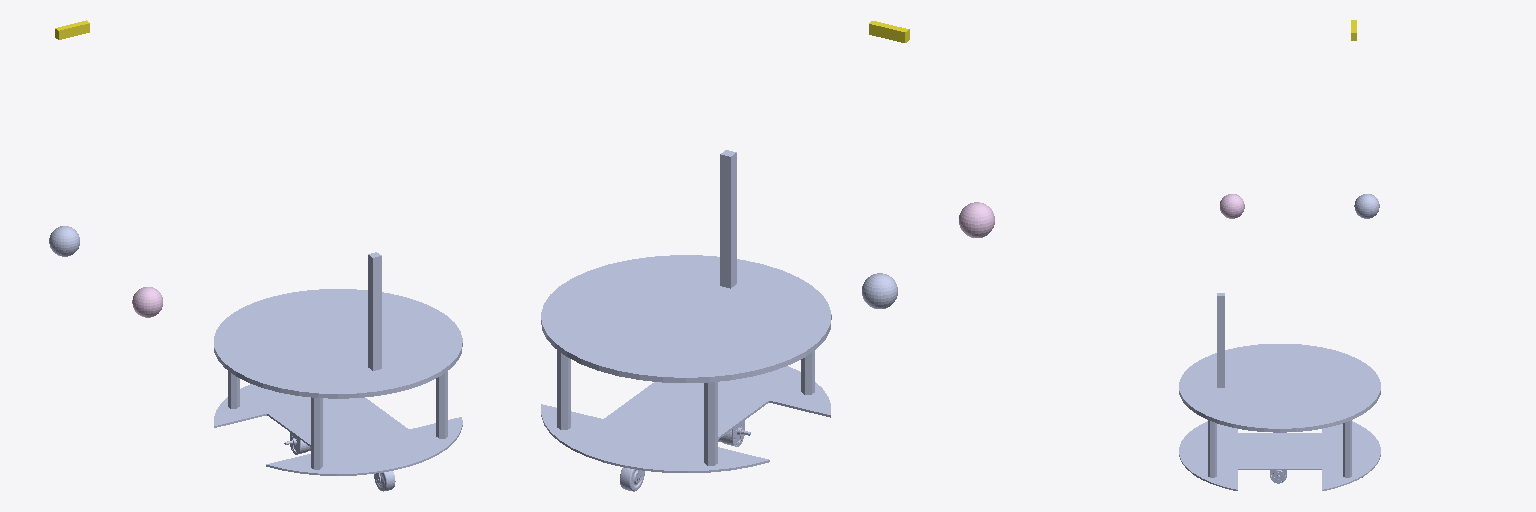
The robot description file, URDF, robot "mapping_robot_1":
<?xml version="1.0" encoding="utf-8"?>
<!-- This URDF was automatically created by SolidWorks to URDF Exporter! Originally created by [author] ([email redacted]) 
     Commit Version: 1.6.0-1-g15f4949  Build Version: 1.6.7594.29634
     For more information, please see http://wiki.ros.org/sw_urdf_exporter -->
<robot
  name="mapping_robot_1">
  <link
    name="base_link">
    <inertial>
      <origin xyz="0 0 0" rpy="0 0 0" />
      <mass value="0.36019" />
      <inertia
        ixx="0.0010507"
        ixy="7.6565E-12"
        ixz="4.6942E-11"
        iyy="0.0018673"
        iyz="0.3788E-10"
        izz="0.00107787" />
    </inertial>
    <visual>
      <origin xyz="0 0 0" rpy="0 0 0" />
      <geometry>
        <mesh filename="package://mapping_robot_1/meshes/base_link.STL" />
      </geometry>
      <material
        name="">
        <color rgba="0.79216 0.81961 0.93333 1" />
      </material>
    </visual>
    <collision>
      <origin xyz="0 0 0" rpy="0 0 0" />
      <geometry>
        <mesh filename="package://mapping_robot_1/meshes/base_link.STL" />
      </geometry>
    </collision>
  </link>

  <gazebo reference="base_link">
    <material>Gazebo/DarkGrey</material>
  </gazebo>

  <joint name="caster_joint" type="fixed">
    <origin xyz="0 0.08 -0.02" rpy="0 0 0"/>
    <parent link="base_link"/>
    <child link="caster_front"/>
  </joint>

  <gazebo reference="caster_front">
            <slip1>100000.0</slip1>
            <slip2>100000.0</slip2>
  </gazebo>

 <link name="caster_front">
    <collision name="caster_front_collision">
      <origin rpy="0  0  0" xyz="0 0 0"/>
      <geometry>
        <sphere radius="0.015"/>
      </geometry>
      <surface>
        <friction>
          <ode>
            <slip1>100000.0</slip1>
            <slip2>100000.0</slip2>
          </ode>
        </friction>
      </surface>
    </collision>
    
    <visual name="castor_front_visual">
      <origin rpy="0  0  0" xyz="0 0 0"/>
      <geometry>
        <sphere radius="0.015"/>
      </geometry>
      <material
        name="">
        <color rgba="0.79216 0.81961 0.93333 1" />
      </material>
    </visual>
  </link>

 <gazebo reference="caster_front">
    <material>Gazebo/BlueGlow</material>
  </gazebo>

  <joint name="caster_joint1" type="fixed">
    <origin xyz="0 -0.08 -0.02" rpy="0 0 0"/>
    <parent link="base_link"/>
    <child link="caster_front1"/>
  </joint>

    <gazebo reference="caster_front1">
            <slip1>100000.0</slip1>
            <slip2>100000.0</slip2>
  </gazebo>
 <link name="caster_front1">
    <collision name="caster_front_collision1">
      <origin rpy="0  0  0" xyz="0 0 0"/>
      <geometry>
        <sphere radius="0.015"/>
      </geometry>
      <surface>
        <friction>
          <ode>
            <slip1>100000.0</slip1>
            <slip2>100000.0</slip2>
          </ode>
        </friction>
      </surface>
    </collision>
    
    <visual name="castor_front_visual1">
      <origin rpy="0  0  0" xyz="0 0 0"/>
      <geometry>
        <sphere radius="0.015"/>
      </geometry>
      <material
        name="1">
        <color rgba="0.9216 0.81961 0.93333 1" />
      </material>
    </visual> 
    </link>

  <gazebo reference="caster_front1">
    <material>Gazebo/BlueGlow</material>
  </gazebo>

  <joint name="stereo_joint" type="fixed">
    <origin xyz="0.0 0.065 0.21" rpy="0 0 1.57"/>
    <parent link="base_link"/>
    <child link="stereo_link"/>
  </joint>

  <link name="stereo_link">
    <collision>
      <origin xyz="0.0 0.0 0.0" rpy="0 0 0"/>
      <geometry>
        <box size="0.007 0.035 0.01"/>
      </geometry>
    </collision>
    <visual name="stereo_front_visual">
      <origin rpy="0  0  0" xyz="0  0  0"/>
      <geometry>
        <box size="0.007 0.035 0.01"/>
      </geometry>
    </visual> 
  </link>
  
  <link
    name="Left_link">
    <inertial>
      <origin xyz="0.07 0.0 -0.009" rpy="0 0 0" />
      <mass value="0.0047382" />
      <inertia
        ixx="2.7571E-06"
        ixy="-6.1198E-12"
        ixz="1.7319E-14"
        iyy="1.3915E-06"
        iyz="-3.1568E-13"
        izz="1.3915E-06" />
    </inertial>
    <visual>
      <origin xyz="-0.135 0 0" rpy="0 0 0" />
      <geometry>
        <mesh filename="package://mapping_robot_1/meshes/Left_link.STL" />
      </geometry>
      <material
        name="">
        <color rgba="0.79216 0.81961 0.93333 1" />
      </material>
    </visual>
    <collision>
      <origin xyz="-0.135 0 0" rpy="0 0 0" />
      <geometry>
        <mesh filename="package://mapping_robot_1/meshes/Left_link.STL" />
      </geometry>
      <surface>
      <friction>
          <ode>
            <mu>1000</mu>
            <mu2>1000</mu2>
          </ode>
        </friction>
      </surface>
    </collision>
  </link>
  <joint name="left_wheel" type="continuous">
    <origin xyz="0.07 0.0 -0.009" rpy="0 0 0" />
    <parent link="base_link" />
    <child link="Left_link" />
    <axis xyz="-1 0 0" />
    <limit effort="20" velocity="10" /> 
    <joint_properties damping="10.0" friction="10000.0" />
  </joint>

  <gazebo reference="Left_link">
            <mu>1000</mu>
            <mu2>1000</mu2>
  </gazebo>
  <transmission name="left_wheel_trans">
    <type>transmission_interface/SimpleTransmission</type>
    <actuator name="left_wheel_motor">
      <hardwareInterface>VelocityJointInterface</hardwareInterface>
      <mechanicalReduction>4</mechanicalReduction>
    </actuator>
    <joint name="left_wheel">
      <hardwareInterface>VelocityJointInterface</hardwareInterface>
    </joint>
  </transmission>

  <gazebo reference="Left_link">
    <material>Gazebo/BlueGlow</material>
  </gazebo>

  <link name="Right_Link">
    <inertial>
      <origin xyz="-0.07 0.0 -0.009" rpy="0 0 0" />
      <mass value="0.0047382" />
      <inertia
        ixx="2.7571E-06"
        ixy="-6.1198E-12"
        ixz="1.7319E-14"
        iyy="1.3915E-06"
        iyz="-3.1568E-13"
        izz="1.3915E-06" />
    </inertial>
    <visual>
      <origin xyz="0.135 0 0" rpy="0 0 0" />
      <geometry>
        <mesh filename="package://mapping_robot_1/meshes/Right_Link.STL" />
      </geometry>
      <material
        name="">
        <color rgba="0.79216 0.81961 0.93333 1" />
      </material>
    </visual>
    <collision>
      <origin xyz="0.135 0.0 0.0" rpy="0 0 0" />
      <geometry>
        <mesh filename="package://mapping_robot_1/meshes/Right_Link.STL" />
      </geometry>
      <surface>
      <friction>
          <ode>
            <mu>100</mu>
            <mu2>100</mu2>
          </ode>
        </friction>
      </surface>
    </collision>
  </link>
  <joint name="Right_wheel" type="continuous">
    <origin xyz="-0.07 0.0 -0.009" rpy="0 0 0" />
    <parent link="base_link" />
    <child link="Right_Link" />
    <axis xyz="-1 0 0" />
    <limit effort="20" velocity="10" /> 
    <joint_properties damping="10.0" friction="10000.0" />
  </joint>

  
  <gazebo reference="Right_Link">
            <mu>1000</mu>
            <mu2>1000</mu2>
  </gazebo>
  <transmission name="right_wheel_trans">
     <type>transmission_interface/SimpleTransmission</type>
     <actuator name="right_wheel_motor">
       <hardwareInterface>VelocityJointInterface</hardwareInterface>
       <mechanicalReduction>4</mechanicalReduction>
     </actuator>
     <joint name="Right_wheel">
       <hardwareInterface>VelocityJointInterface</hardwareInterface>
     </joint>
  </transmission>

  <gazebo reference="Right_Link">
    <material>Gazebo/BlueGlow</material>
  </gazebo>

  <gazebo>
    <plugin filename="libgazebo_ros_diff_drive.so" name="differential_drive_controller">
      <alwaysOn>true</alwaysOn>
      <updateRate>20</updateRate>
      <leftJoint>left_wheel</leftJoint>
      <rightJoint>Right_wheel</rightJoint>
      <wheelSeparation>0.2</wheelSeparation>
      <wheelDiameter>0.1</wheelDiameter>
      <torque>10</torque>
      <commandTopic>cmd_vel</commandTopic>
      <odometryTopic>odom</odometryTopic>
      <odometryFrame>odom</odometryFrame>
      <robotBaseFrame>base_link</robotBaseFrame>
    </plugin>
  </gazebo>
<!-- First camera joint -->
  <joint name="camera_joint" type="fixed">
    <origin xyz="0.0165 0.065 0.21" rpy="0 0 1.57"/>
    <parent link="base_link"/>
    <child link="camera_link"/>
  </joint>

  <link name="camera_link">
    <collision>
      <origin xyz="0.001325 0.002915 0.003445" rpy="0 0 0"/>
      <geometry>
        <box size="0.003975 0.00795 0.007155"/>
      </geometry>
    </collision>
  </link>

  <joint name="camera_rgb_joint" type="fixed">
    <origin xyz="0.000795 0.002915 0.002385" rpy="0 0 0"/>
    <parent link="camera_link"/>
    <child link="camera_rgb_frame"/>
  </joint>
  <link name="camera_rgb_frame"/>

  <joint name="camera_rgb_optical_joint" type="fixed">
    <origin xyz="0 0 0" rpy="-1.57 0 -1.57"/>
    <parent link="camera_rgb_frame"/>
    <child link="camera_rgb_optical_frame"/>
  </joint>
  <link name="camera_rgb_optical_frame"/>

    <gazebo reference="camera_rgb_frame">
    <sensor type="camera" name="Pi Camera">
      <always_on>true</always_on>
      <visualize>true</visualize>
      <camera>
          <horizontal_fov>1.085595</horizontal_fov>
          <image>
              <width>640</width>
              <height>480</height>
              <format>R8G8B8</format>
          </image>
          <clip>
              <near>0.03</near>
              <far>100</far>
          </clip>
      </camera>
      <plugin name="camera_controller" filename="libgazebo_ros_camera.so">
        <alwaysOn>true</alwaysOn>
        <updateRate>30.0</updateRate>
        <cameraName>camera</cameraName>
        <frameName>camera_rgb_optical_frame</frameName>
        <imageTopicName>rgb/image_raw</imageTopicName>
        <cameraInfoTopicName>rgb/camera_info</cameraInfoTopicName>
        <hackBaseline>0.07</hackBaseline>
        <distortionK1>0.0</distortionK1>
        <distortionK2>0.0</distortionK2>
        <distortionK3>0.0</distortionK3>
        <distortionT1>0.0</distortionT1>
        <distortionT2>0.0</distortionT2>
      </plugin>
    </sensor>
  </gazebo>
<!-- The second Camera joint -->
  <joint name="camera_joint1" type="fixed">
    <origin xyz="-0.0135 0.065 0.21" rpy="0 0 1.57"/>
    <parent link="base_link"/>
    <child link="camera_link1"/>
  </joint>

  <link name="camera_link1">
    <collision>
      <origin xyz="0.001325 0.002915 0.003445" rpy="0 0 0"/>
      <geometry>
        <box size="0.003975 0.00795 0.007155"/>
      </geometry>
    </collision>
  </link>

  <joint name="camera_rgb_joint1" type="fixed">
    <origin xyz="0.000795 0.002915 0.002385" rpy="0 0 0"/>
    <parent link="camera_link1"/>
    <child link="camera_rgb_frame1"/>
  </joint>
  <link name="camera_rgb_frame1"/>

  <joint name="camera_rgb_optical_joint1" type="fixed">
    <origin xyz="0 0 0" rpy="-1.57 0 -1.57"/>
    <parent link="camera_rgb_frame1"/>
    <child link="camera_rgb_optical_frame1"/>
  </joint>
  <link name="camera_rgb_optical_frame1"/>

    <gazebo reference="camera_rgb_frame1">
    <sensor type="camera" name="Pi Camera">
      <always_on>true</always_on>
      <visualize>true</visualize>
      <camera>
          <horizontal_fov>1.085595</horizontal_fov>
          <image>
              <width>640</width>
              <height>480</height>
              <format>R8G8B8</format>
          </image>
          <clip>
              <near>0.03</near>
              <far>100</far>
          </clip>
      </camera>
      <plugin name="camera_controller" filename="libgazebo_ros_camera.so">
        <alwaysOn>true</alwaysOn>
        <updateRate>30.0</updateRate>
        <cameraName>camera1</cameraName>
        <frameName>camera_rgb_optical_frame1</frameName>
        <imageTopicName>rgb/image_raw1</imageTopicName>
        <cameraInfoTopicName>rgb/camera_info1</cameraInfoTopicName>
        <hackBaseline>0.07</hackBaseline>
        <distortionK1>0.0</distortionK1>
        <distortionK2>0.0</distortionK2>
        <distortionK3>0.0</distortionK3>
        <distortionT1>0.0</distortionT1>
        <distortionT2>0.0</distortionT2>
      </plugin>
    </sensor>
  </gazebo>
</robot>

--- Facts derived from the render (not from the file) ---
The picture shows the robot from 3 angles, left to right: view 1: azimuth 30°, elevation 25°; view 2: azimuth 150°, elevation 25°; view 3: azimuth 270°, elevation 25°; orthographic projection.
Model mapping_robot_1 with 12 links and 11 joints (2 continuous, 9 fixed), rooted at base_link, posed all joints at 0.
Links seen in each view (by area): view 1: base_link, caster_front1, caster_front; view 2: base_link, caster_front, caster_front1, stereo_link; view 3: base_link.
Boxes of the visible links, left/top/right/bottom form: base_link: left=214, top=252, right=462, bottom=491; caster_front1: left=132, top=287, right=162, bottom=317; caster_front: left=49, top=226, right=79, bottom=256; base_link: left=541, top=150, right=831, bottom=491; caster_front: left=862, top=273, right=897, bottom=308; caster_front1: left=959, top=202, right=994, bottom=237; stereo_link: left=869, top=21, right=909, bottom=42; base_link: left=1179, top=293, right=1380, bottom=490.
Size in the robot's own frame: 0.3817 by 0.2398 by 0.4766 metres.
1 mesh visuals loaded from 3 distinct referenced files (1 binary STL); not drawn: 2 (reference not matched to a file when rendering).
